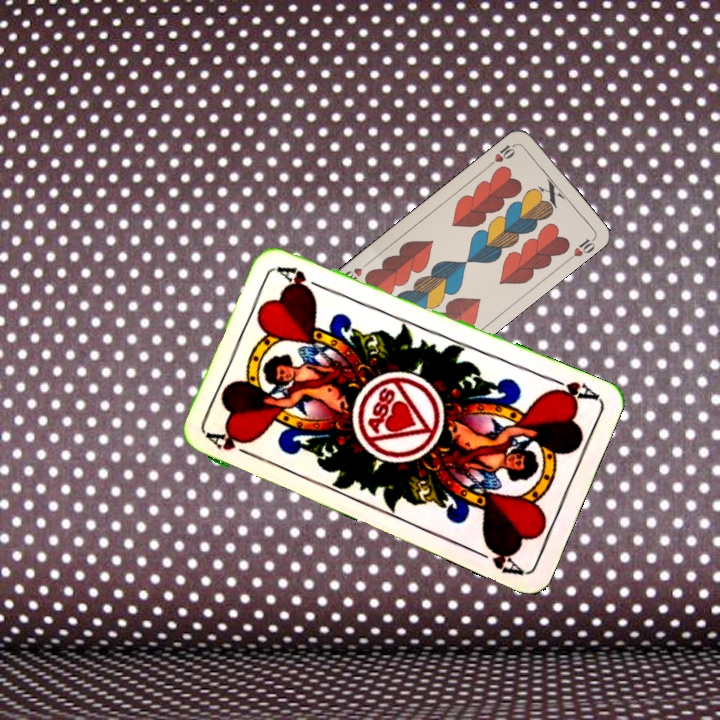H10: (485, 139, 520, 168)
HA: (543, 372, 601, 406), (203, 428, 260, 461)
